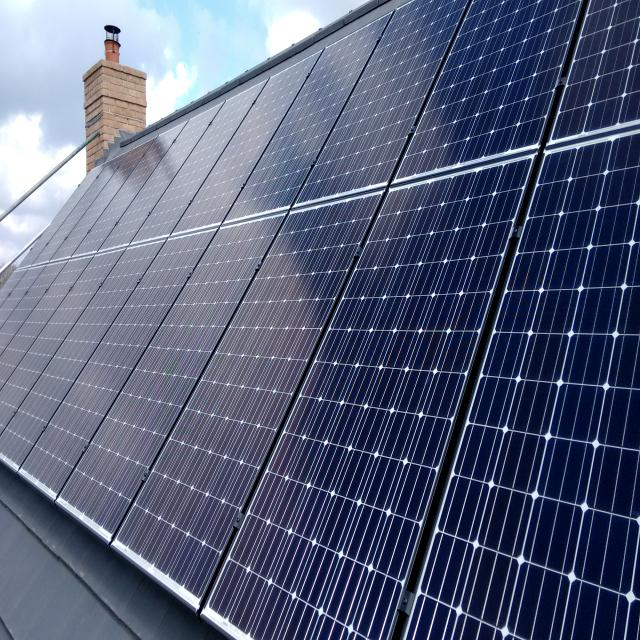crack: (566, 476, 640, 620), (244, 522, 338, 634), (540, 350, 626, 470), (514, 473, 602, 586), (518, 250, 598, 362), (343, 476, 422, 589), (466, 472, 548, 574), (541, 145, 626, 233), (423, 520, 486, 634), (400, 304, 480, 392), (378, 204, 448, 292), (508, 366, 567, 454), (386, 403, 448, 478), (458, 168, 515, 244), (473, 56, 538, 116), (586, 54, 638, 119)
